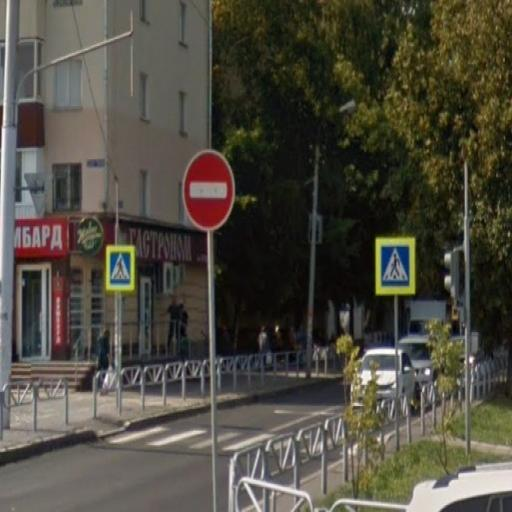traffic_sign: (181, 147, 237, 234), (375, 240, 416, 297), (105, 245, 137, 294)
